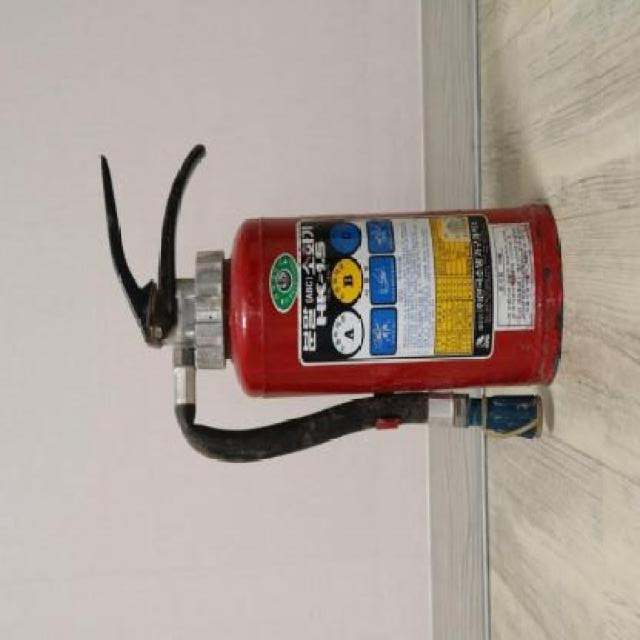fire extinguisher: (98, 143, 564, 466)
